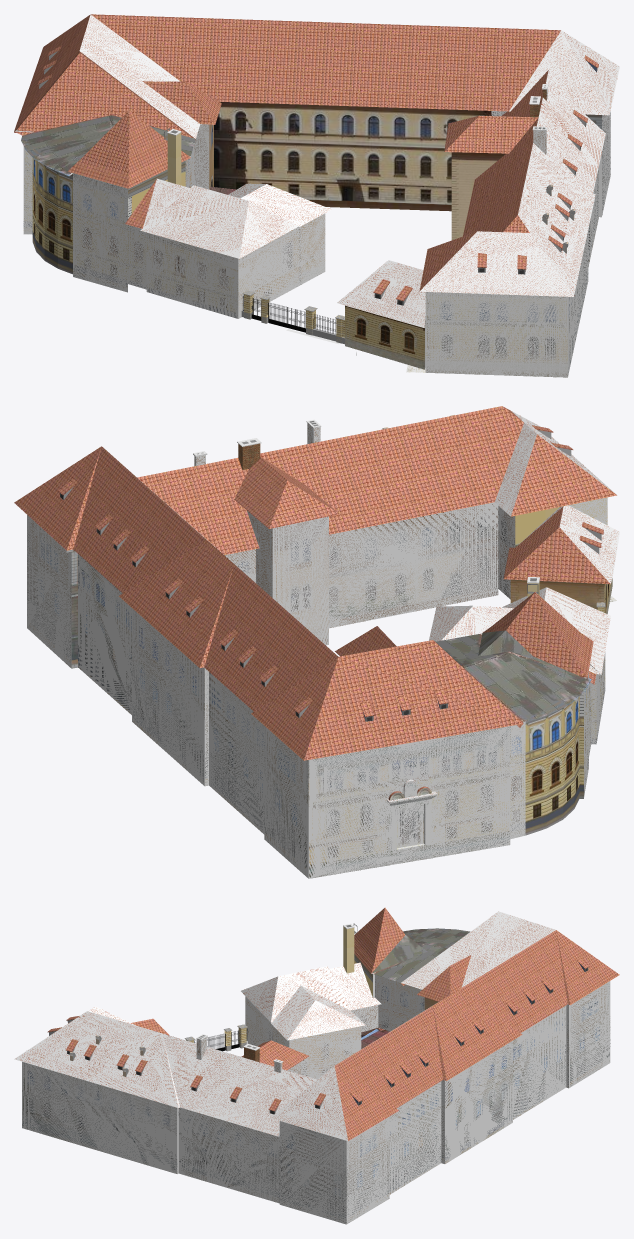
File: hotelova_akademia.glb
3 views of the same model, one above another, from view 1: azimuth 30°, elevation 25°; view 2: azimuth 150°, elevation 25°; view 3: azimuth 270°, elevation 25° (orthographic). The views are drawn at different scales.
Visible parts, largest first — view 1: material, krytina1, M_hotelova_akademia, _92a, s1_0, _92b, _92c, material_1, _92c1_5; view 2: krytina1, material, M_hotelova_akademia, _92a, s1_0, _12a, _92c1_5, s1_3; view 3: material, krytina1, M_hotelova_akademia, s1_0, s1, s1_3, material_1.
Boxes of the visible parts, box(x1,y1,x2,y2) form: material: box(15, 14, 619, 377); krytina1: box(14, 14, 618, 326); M_hotelova_akademia: box(23, 51, 610, 377); _92a: box(32, 158, 72, 274); s1_0: box(21, 115, 189, 176); _92b: box(128, 225, 237, 317); _92c: box(73, 174, 127, 288); material_1: box(167, 133, 181, 185); _92c1_5: box(128, 163, 185, 218); krytina1: box(14, 406, 618, 800); material: box(27, 411, 619, 878); M_hotelova_akademia: box(27, 430, 616, 877); _92a: box(510, 696, 579, 836); s1_0: box(462, 630, 591, 721); _12a: box(510, 579, 604, 609); _92c1_5: box(515, 498, 607, 547); s1_3: box(435, 634, 479, 665); material: box(14, 911, 610, 1224); krytina1: box(16, 907, 619, 1140); M_hotelova_akademia: box(22, 967, 610, 1223); s1_0: box(373, 928, 470, 973); s1: box(372, 935, 427, 973); s1_3: box(374, 952, 441, 982); material_1: box(343, 926, 354, 973).
Bounding box in the file's own units: 66.8 × 19.74 × 79.69.
70 materials, 64 textured.
